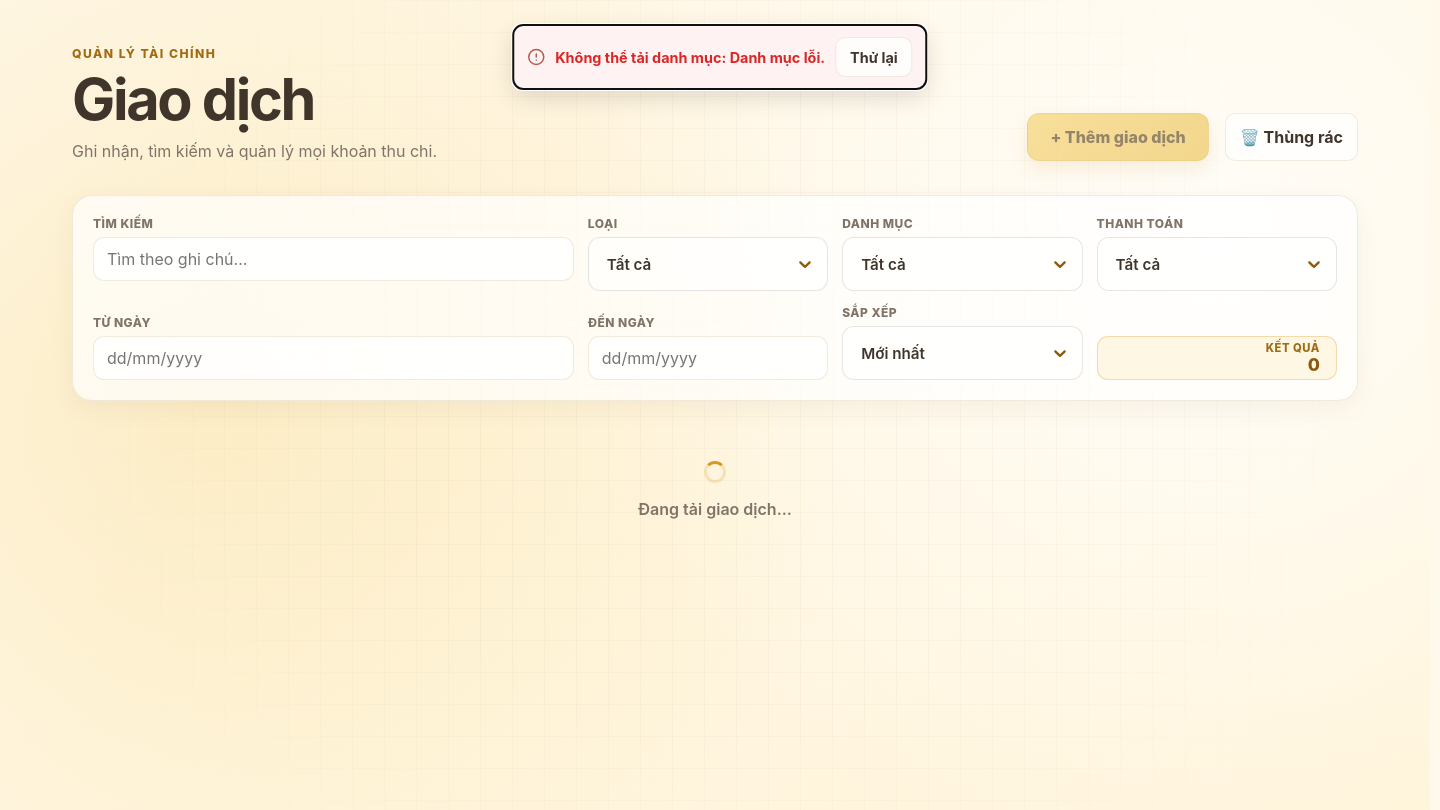
Scenario: Transactions page safeguards › shows category loading errors and retries them
Expected: the text "Không thể tải danh mục: Danh mục lỗi." is shown, [555,48,825,66]
Expected: the button with class "add-txn-button" is disabled, [1027,114,1209,162]
Click the button "Thử lại" at (874, 57), box [835,37,913,77]
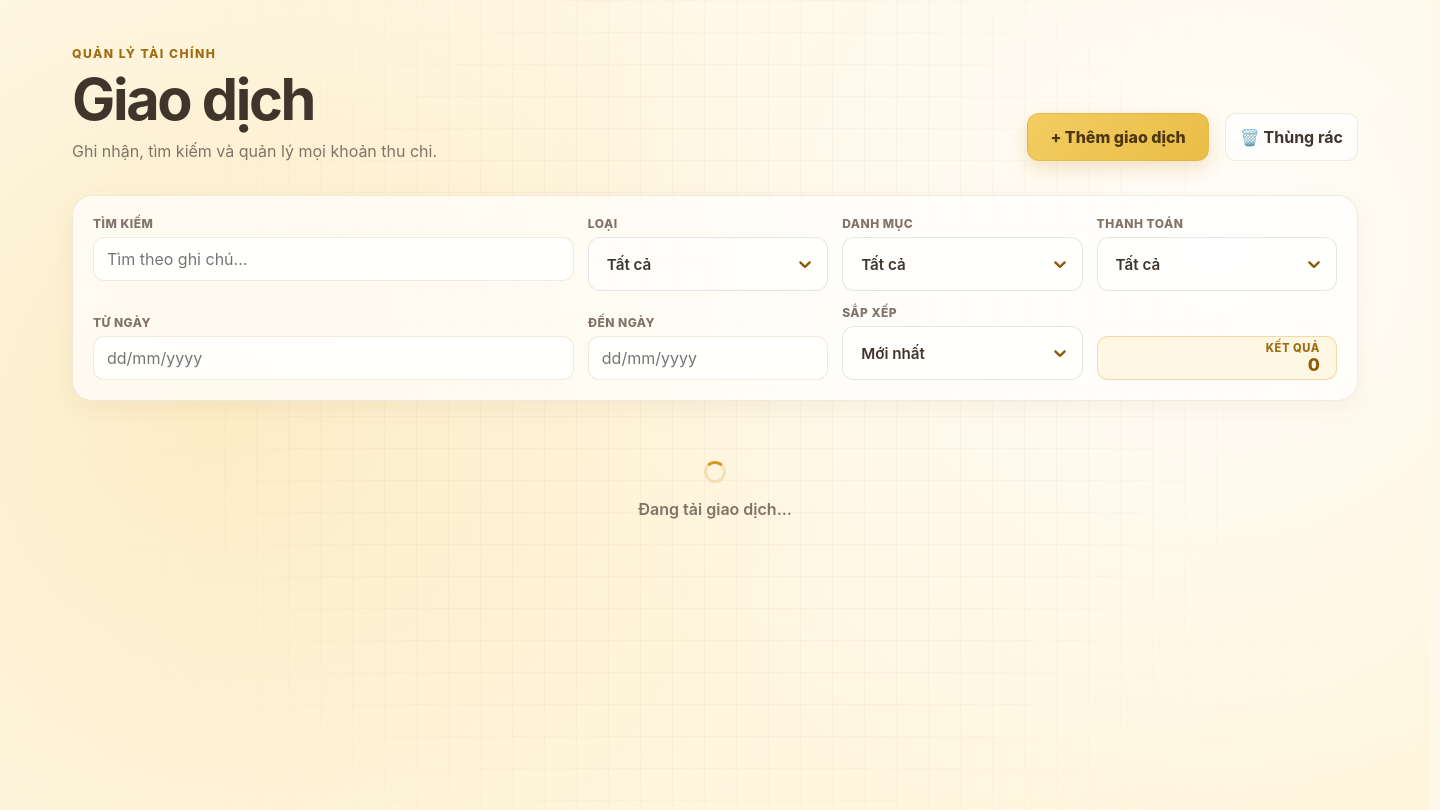
Expected: the button with class "add-txn-button" is enabled, [1027,114,1209,162]
